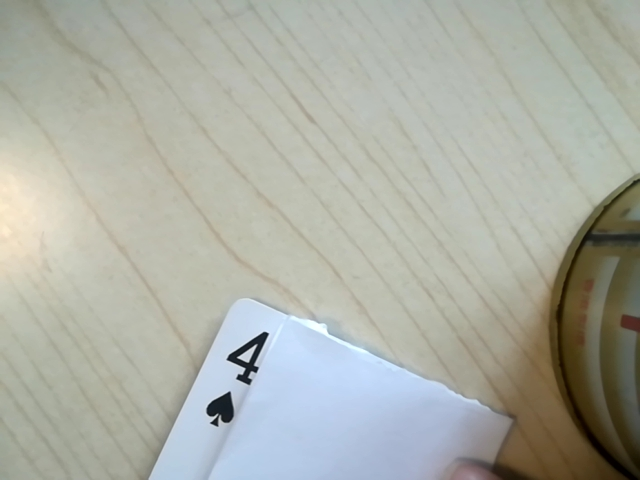ht 4: (193, 322, 277, 446)
